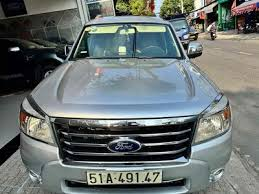Bien-so: (88, 168, 163, 187)
